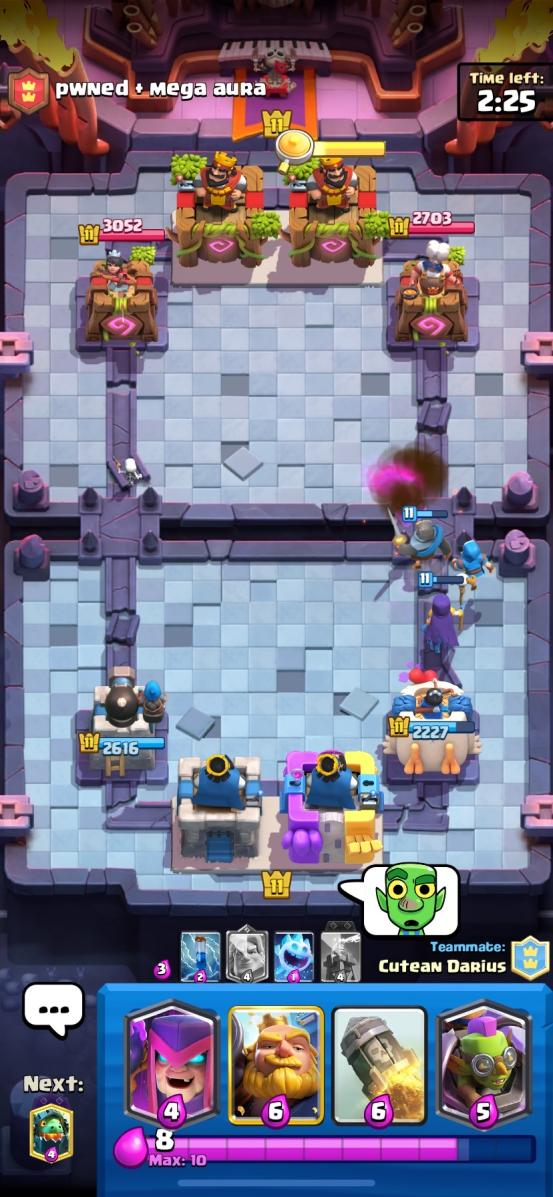EKingTower: (169, 151, 279, 267)
EnemyPanTower: (394, 240, 467, 344)
EnemyPrincessTower: (84, 252, 157, 344)
OCannoneerTower: (76, 666, 165, 779)
OKnight: (290, 156, 385, 267), (394, 518, 451, 563)
OWitch: (423, 592, 458, 662)
OWizard: (460, 540, 493, 588)
OwnKingTower: (280, 750, 383, 866), (171, 753, 262, 868)
OwnPrincessTower: (384, 668, 479, 774)
